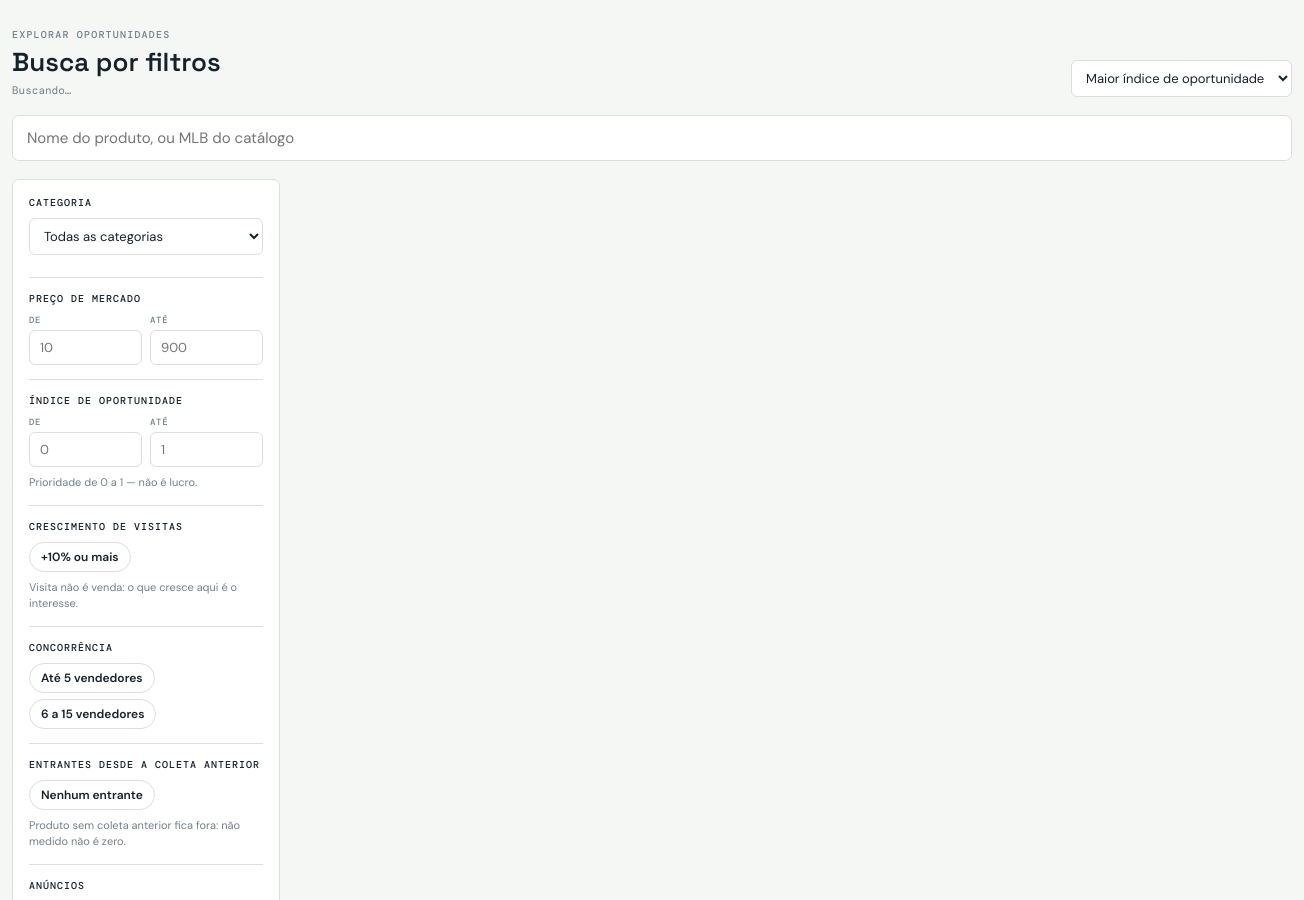
it: Explore › marcar uma opção muda a URL e refaz a busca
What coordinates should you click on to do the following:
click the button "6 a 15 vendedores"
I would click on:
 (93, 714)
Its box is [29,699,156,729].
(page scrolled)
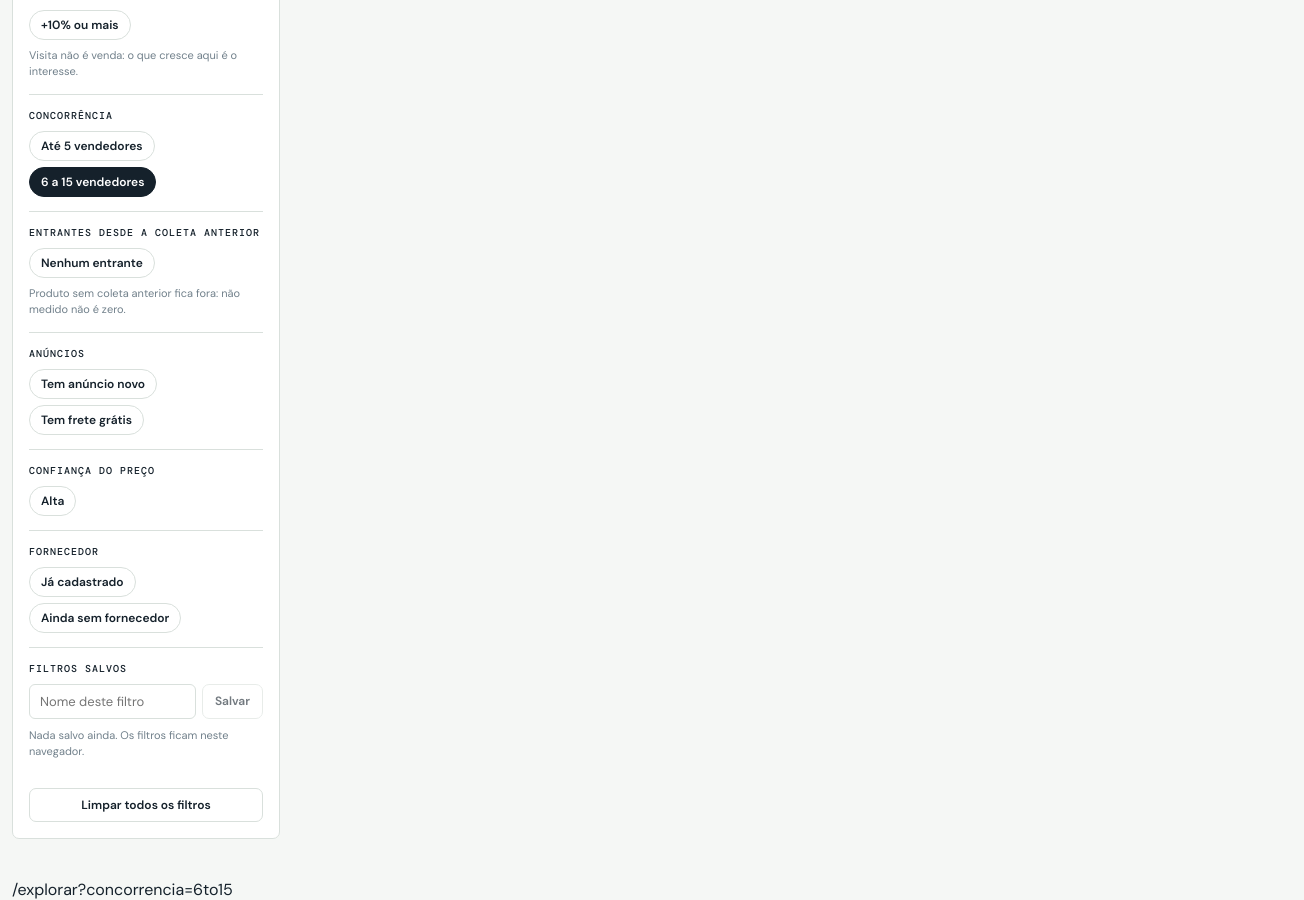
Expected: the text with test id "url" reads "/explorar?concorrencia=6to15", [12,879,233,899]
